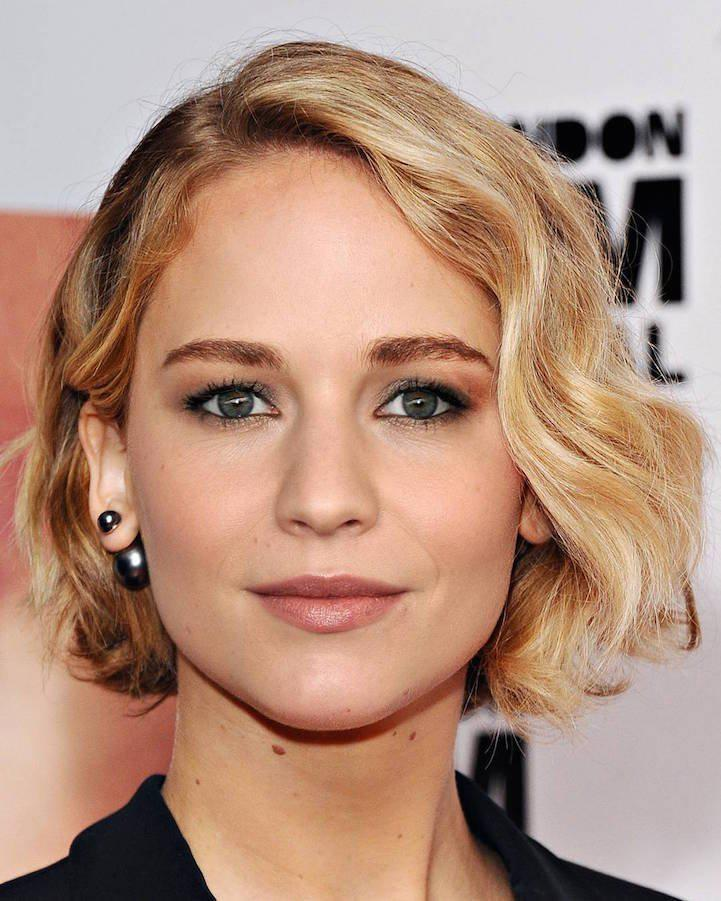Sober: (165, 162, 492, 686)
